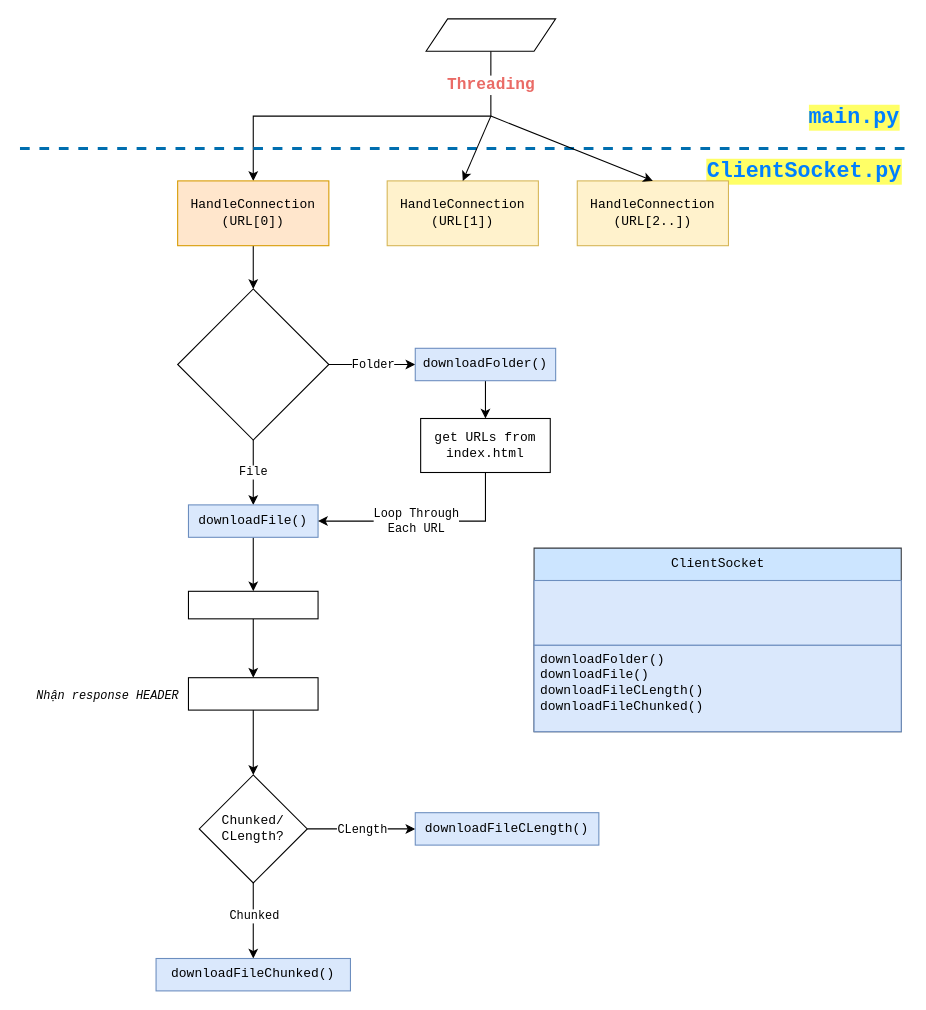
This 926x1010 diagram has some shape labels left out. The shapes that lost their labels are listed below. From the top down, each one's box as (x1, y1, x2, y2) in pixels, then its label:
(425, 18, 556, 51): list of urls
(177, 288, 329, 440): File, '/' or Folder?
(187, 590, 318, 619): sendRequest()
(533, 579, 901, 645): HOST: str() #store Host name aka domain names s: socket.socket()
(187, 677, 318, 710): header = recv()
